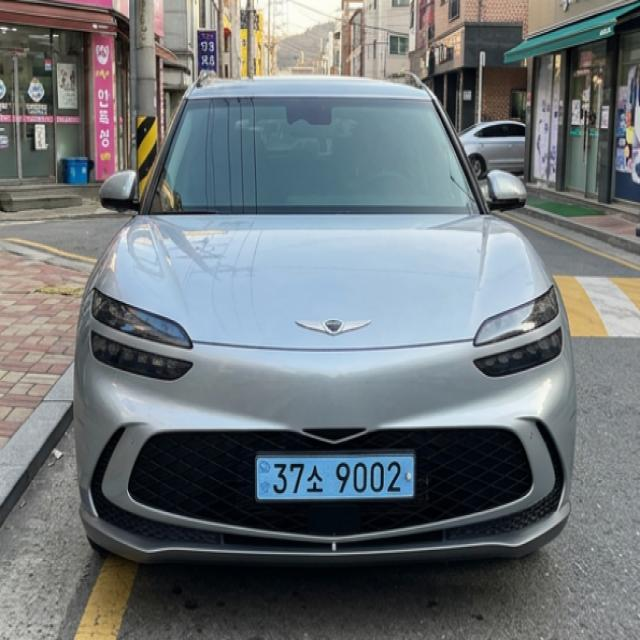car: (235, 443, 441, 515)
carev: (401, 453, 423, 502), (256, 453, 273, 504)
